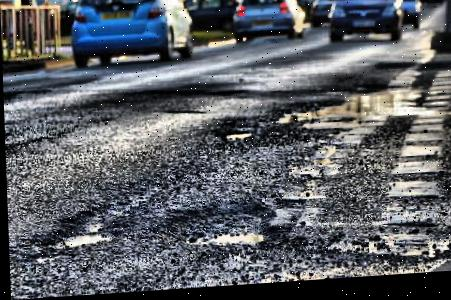pothole: (167, 206, 274, 254), (34, 203, 120, 251), (221, 132, 252, 145)
